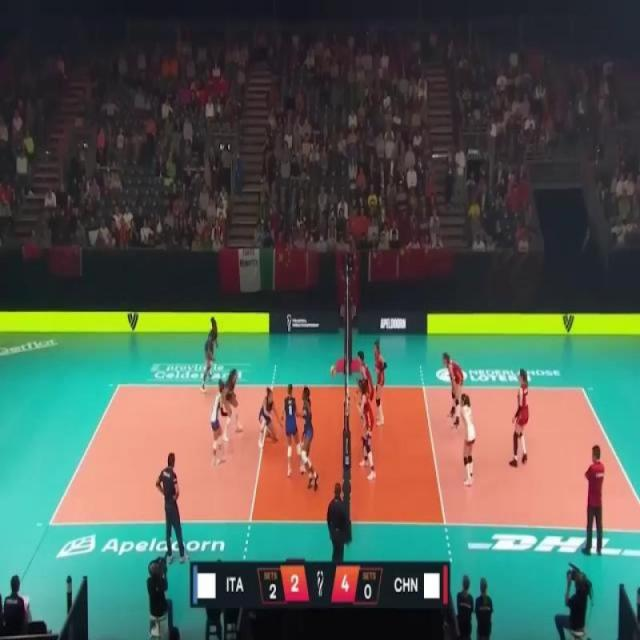volleyball: (330, 364, 337, 378)
